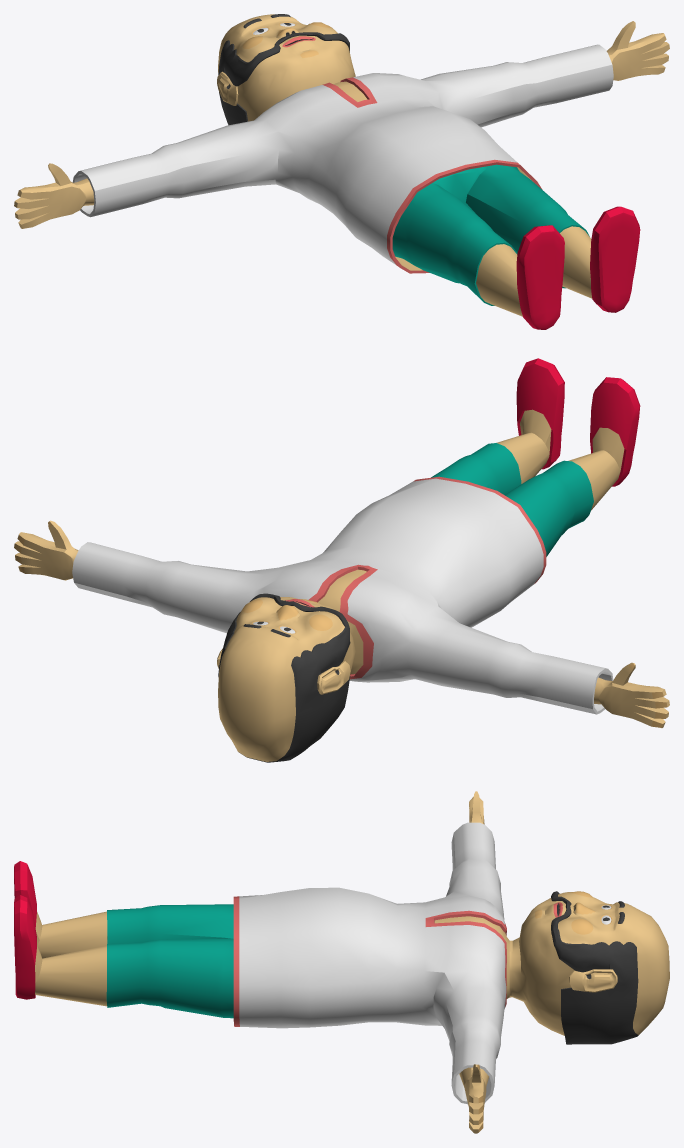
The model's file is HeadGeneral.fbx.
3 views of the same model, one above another, from view 1: azimuth 30°, elevation 25°; view 2: azimuth 150°, elevation 25°; view 3: azimuth 270°, elevation 25° (orthographic). The views are drawn at different scales.
Parts seen in each view (by area): view 1: Cube; view 2: Cube; view 3: Cube.
Boxes of the visible parts, x1,y1,x2,y2 form: Cube: (14, 14, 669, 329); Cube: (14, 358, 669, 762); Cube: (14, 791, 669, 1133).
Bounding box in the file's own units: 251 × 60.97 × 227.
